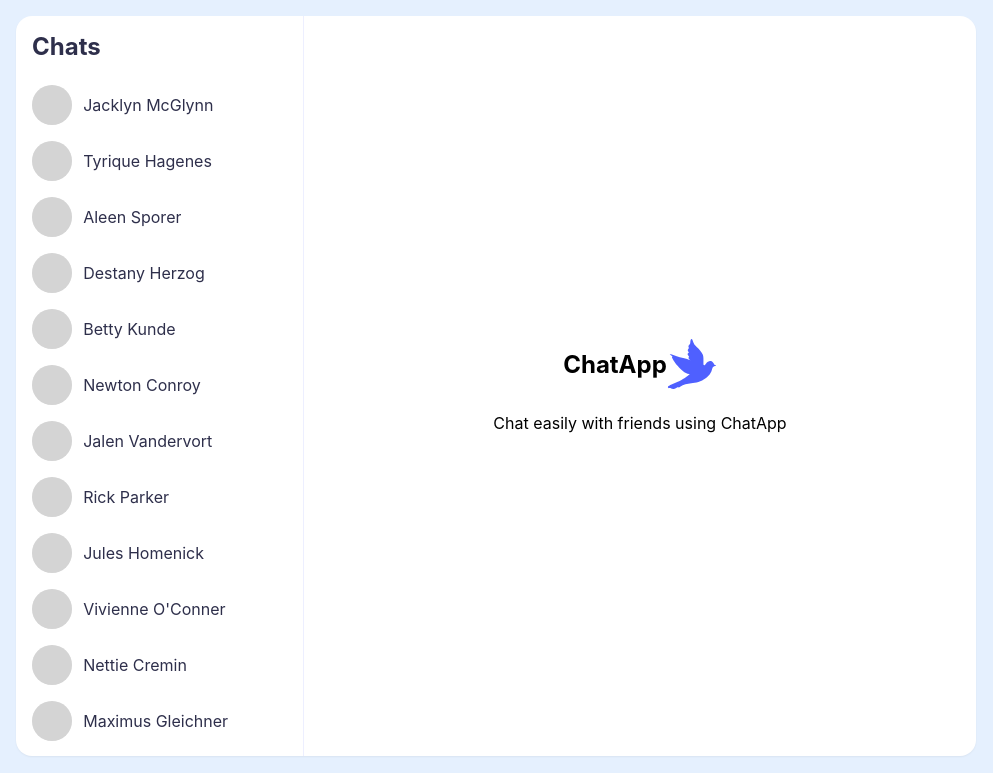
Scenario: it should select a friend and see chat with the friend
The width and height of the screenshot is (993, 773).
Expected: the text "Chat easily with friends using ChatApp" is shown, [493, 413, 787, 433]
Step 1. Click the 1st element with test id "friend" → click(160, 105), box [16, 77, 303, 133]
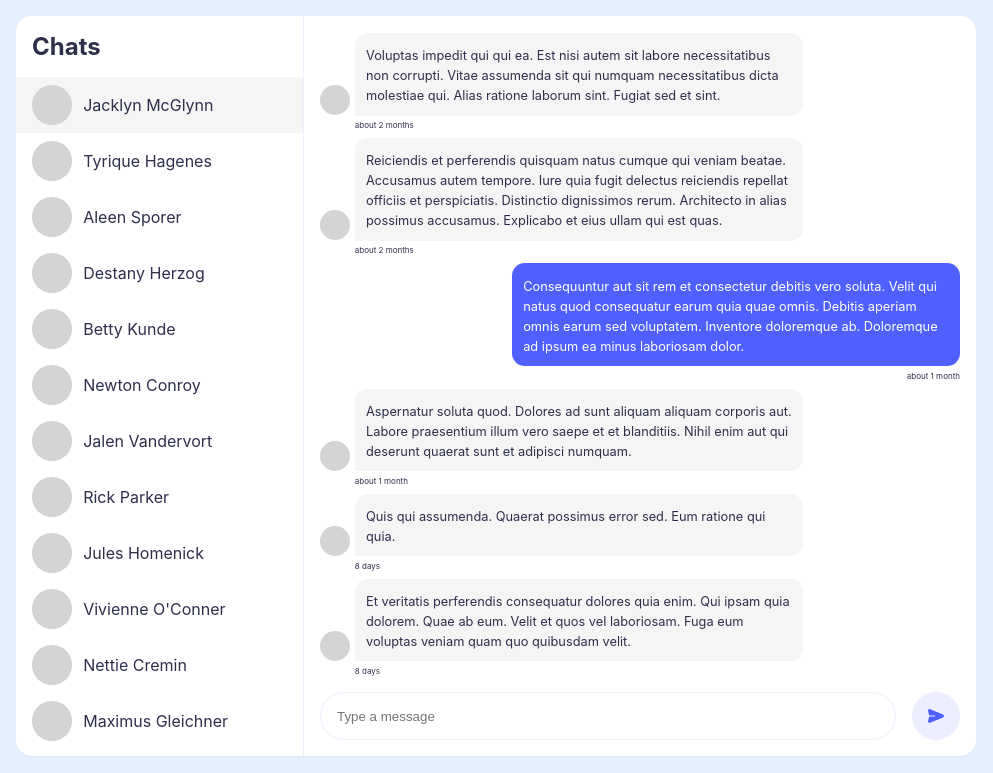
Expected: the text "Chat easily with friends using ChatApp" is gone
